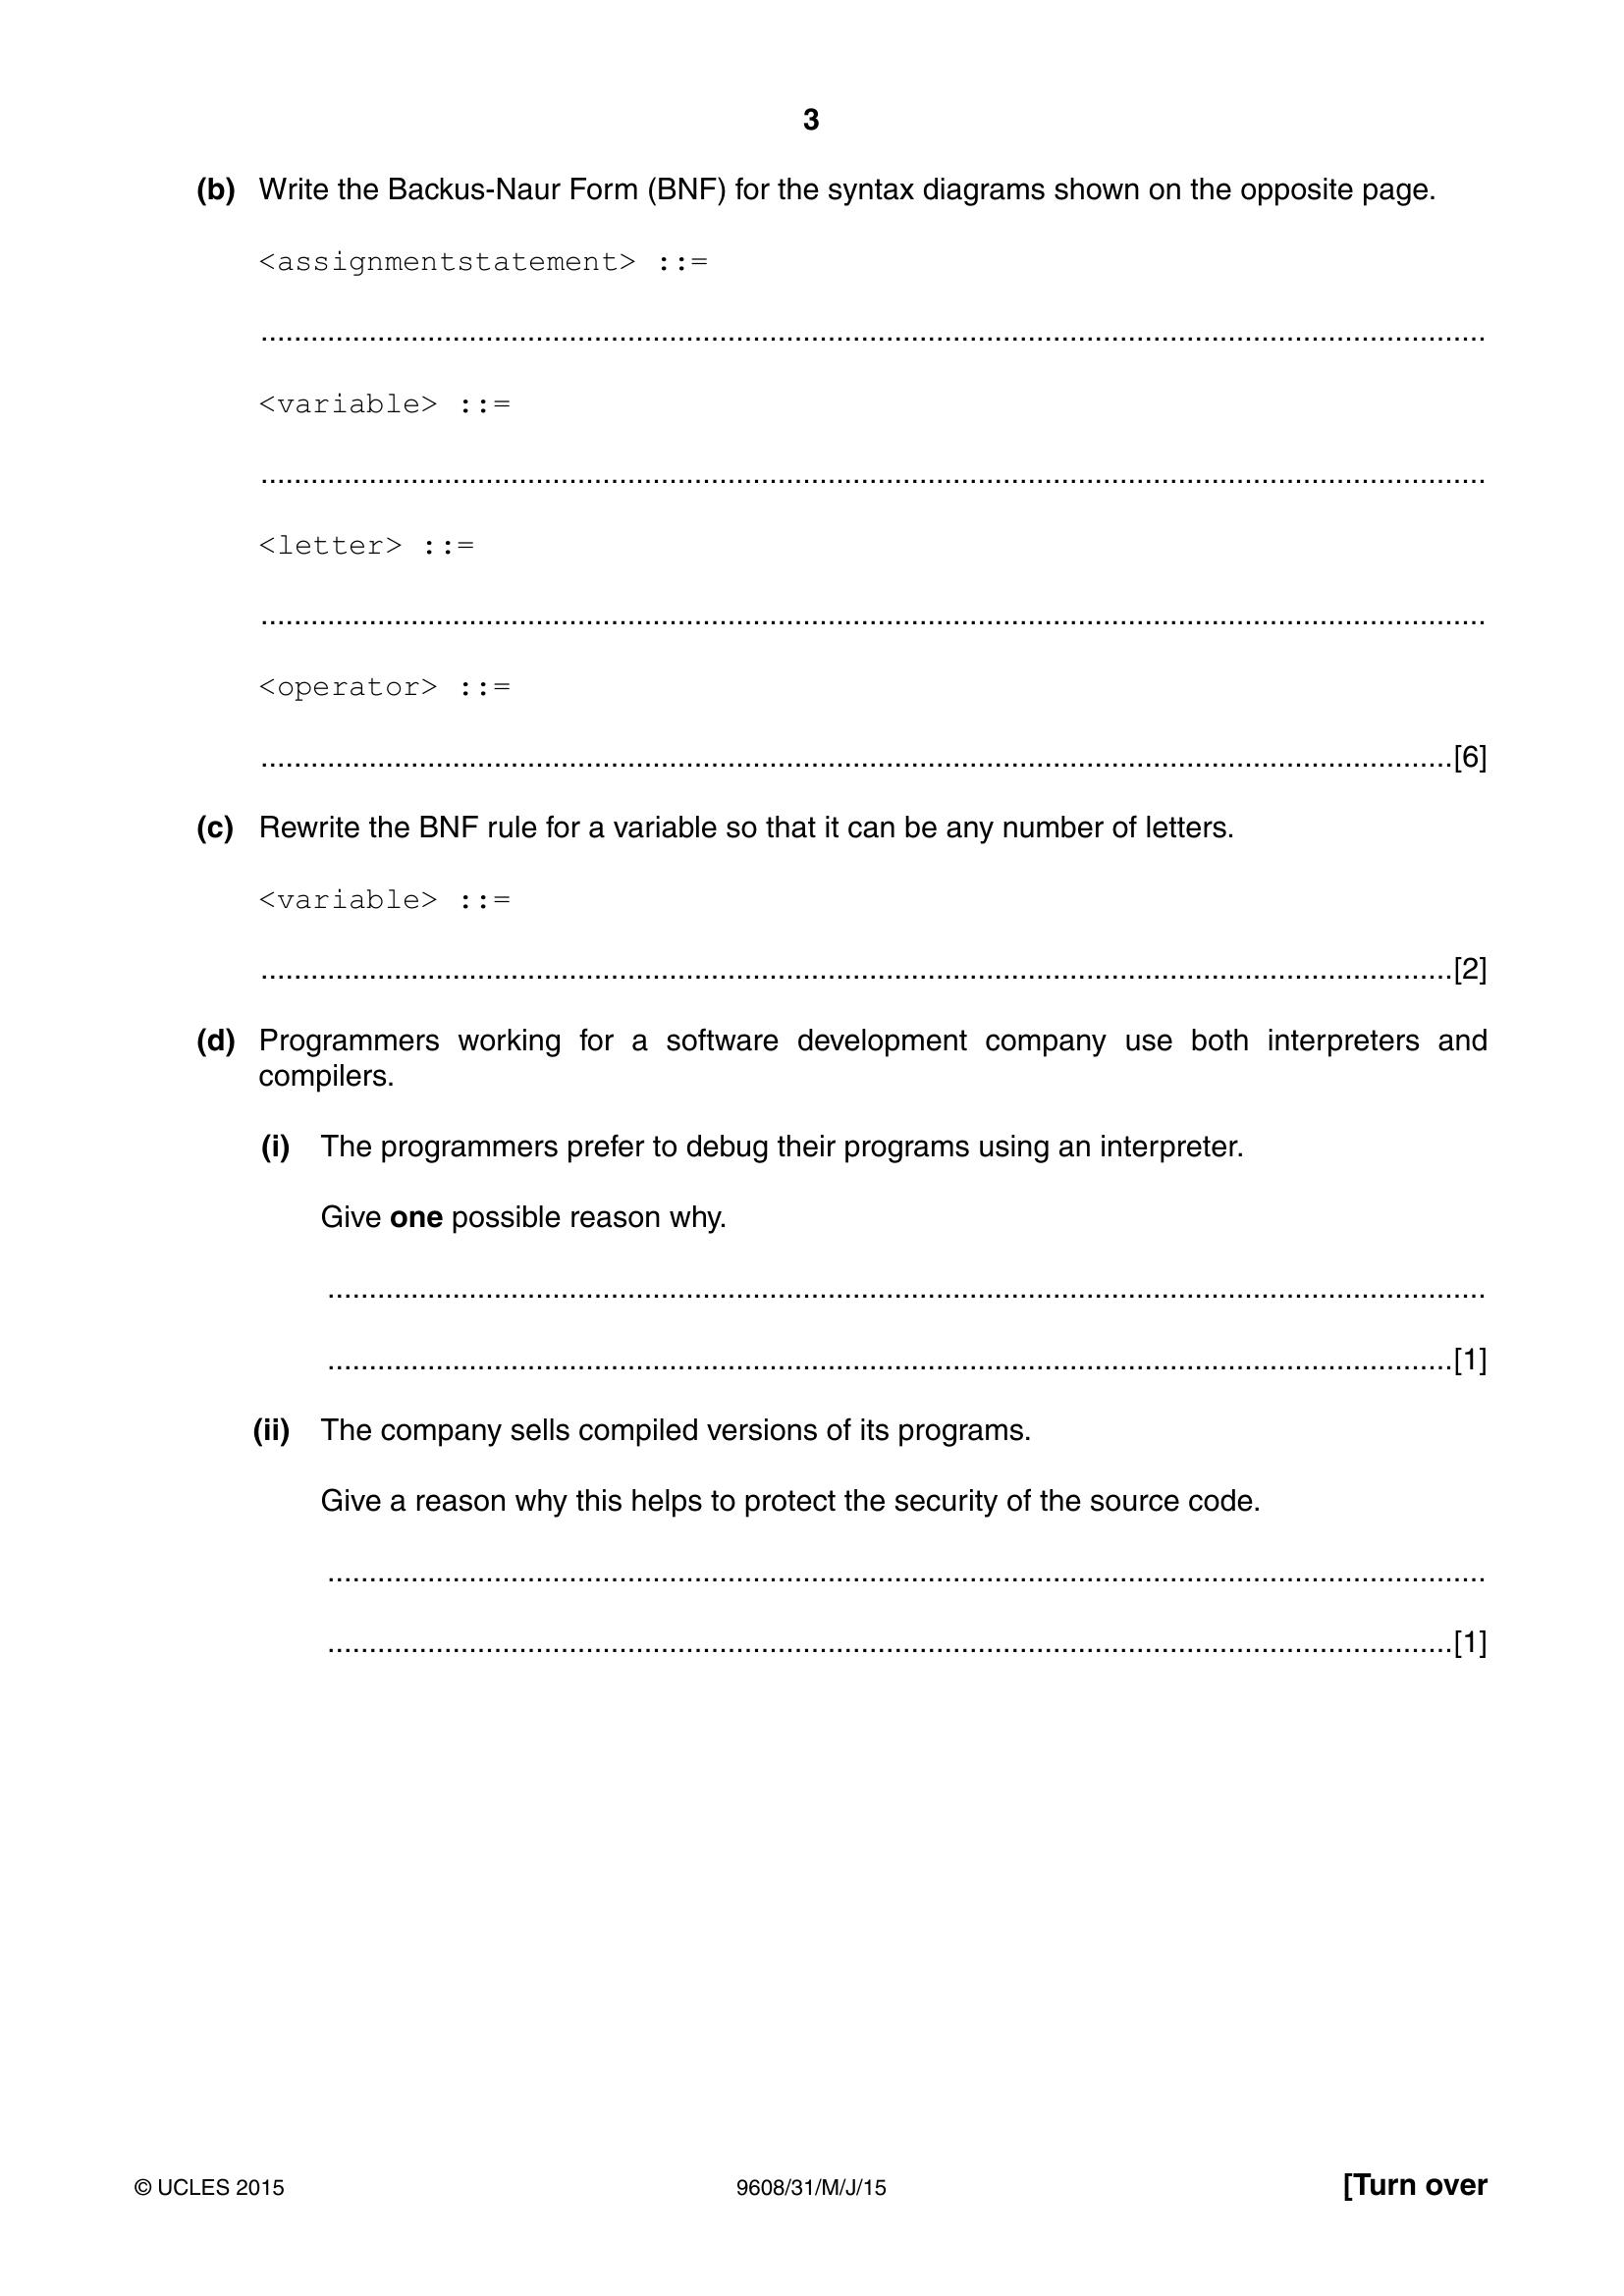continued question: (4, 148, 1624, 1732)
